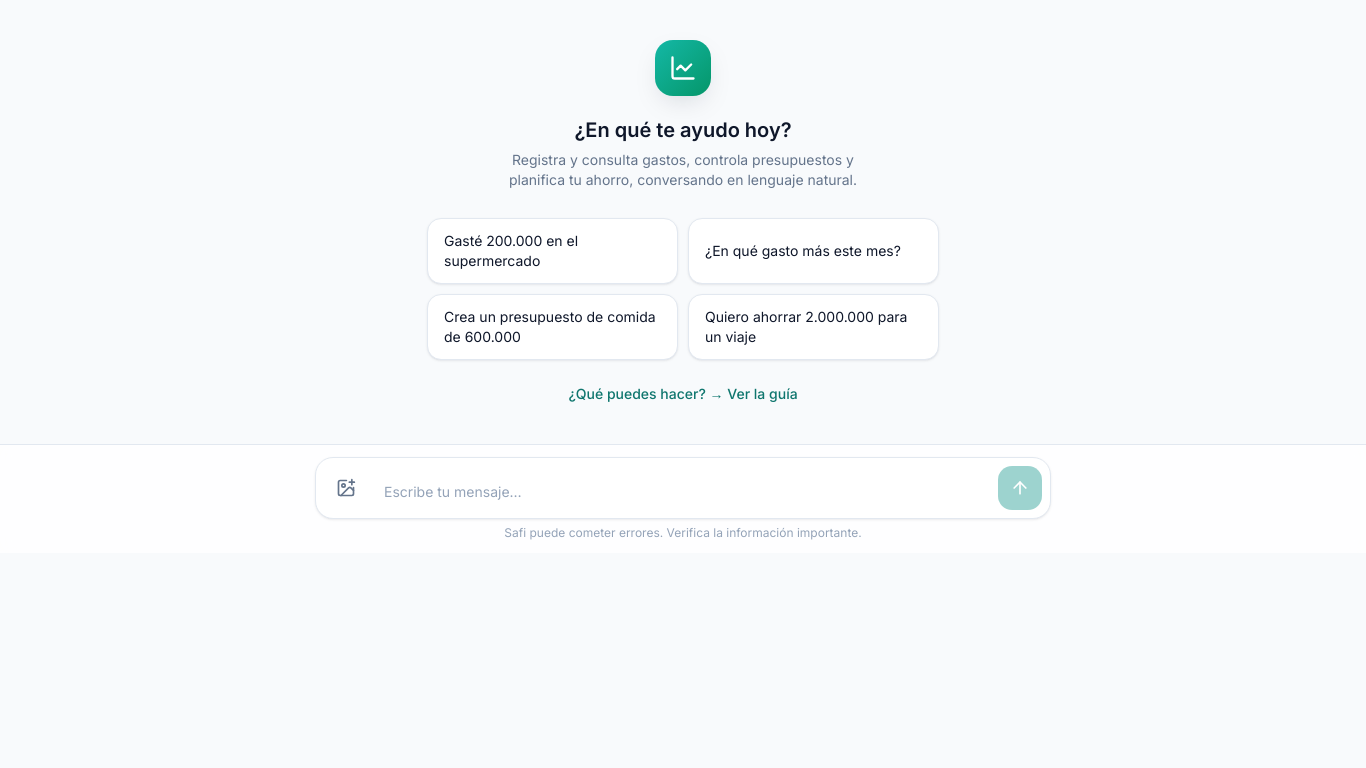
ChatView › shows the user message and the assistant reply after sending
Type "gasté 50 en pizza" into the text box at (683, 492), box left=376, top=474, right=990, bottom=510
Then press Enter
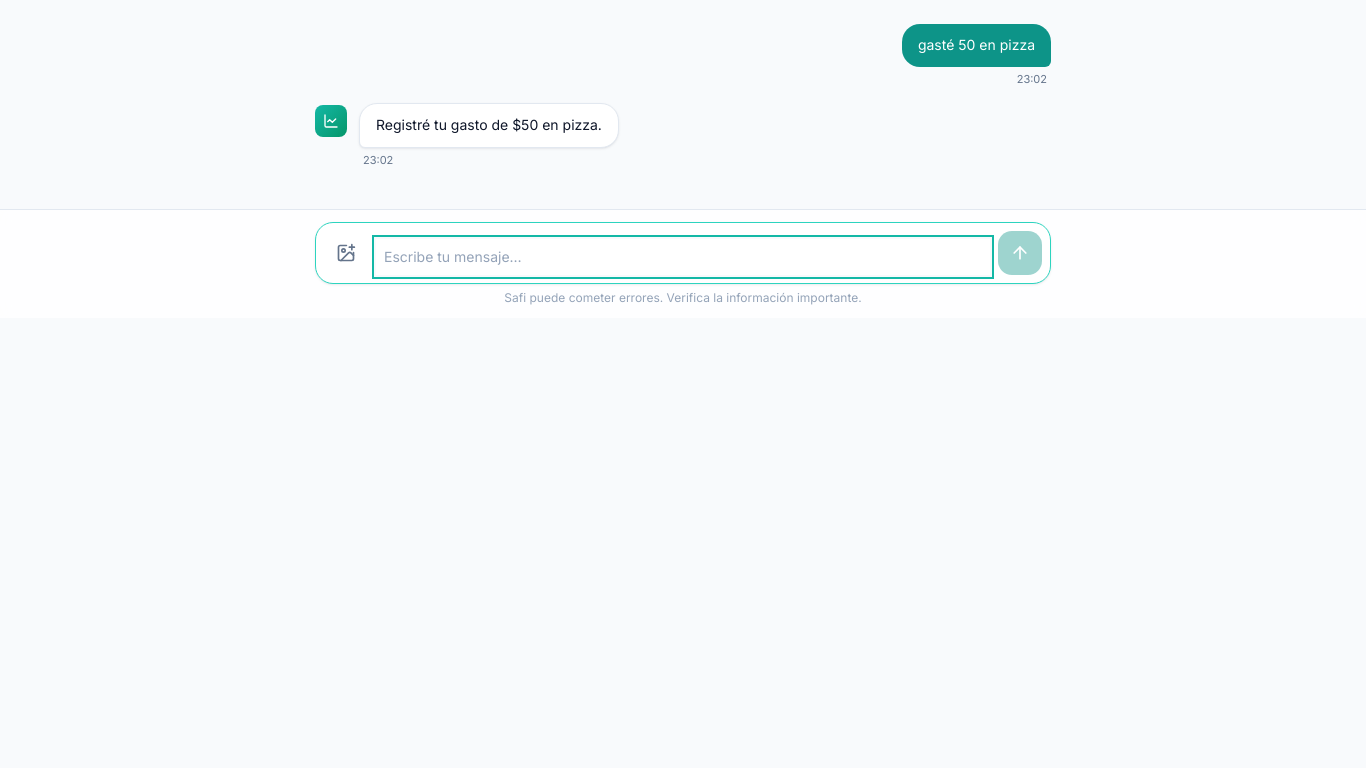
Expected: the text "gasté 50 en pizza" is shown, left=918, top=34, right=1035, bottom=57
Expected: the text "Registré tu gasto de $50 en pizza." is shown, left=376, top=114, right=602, bottom=137
